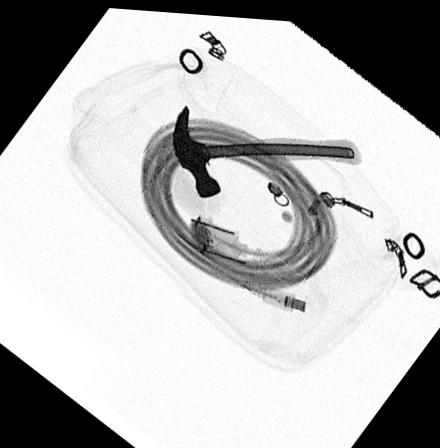Hammer: (171, 102, 362, 196)
